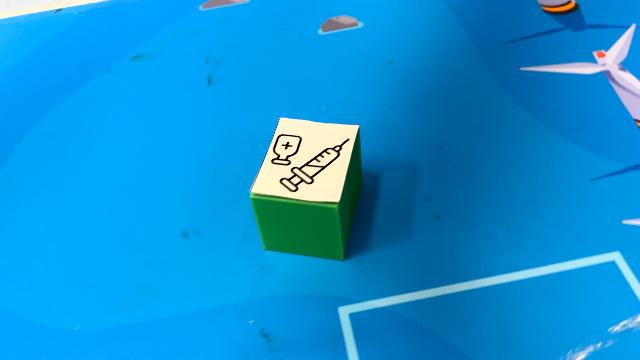syringe: (249, 117, 363, 261)
